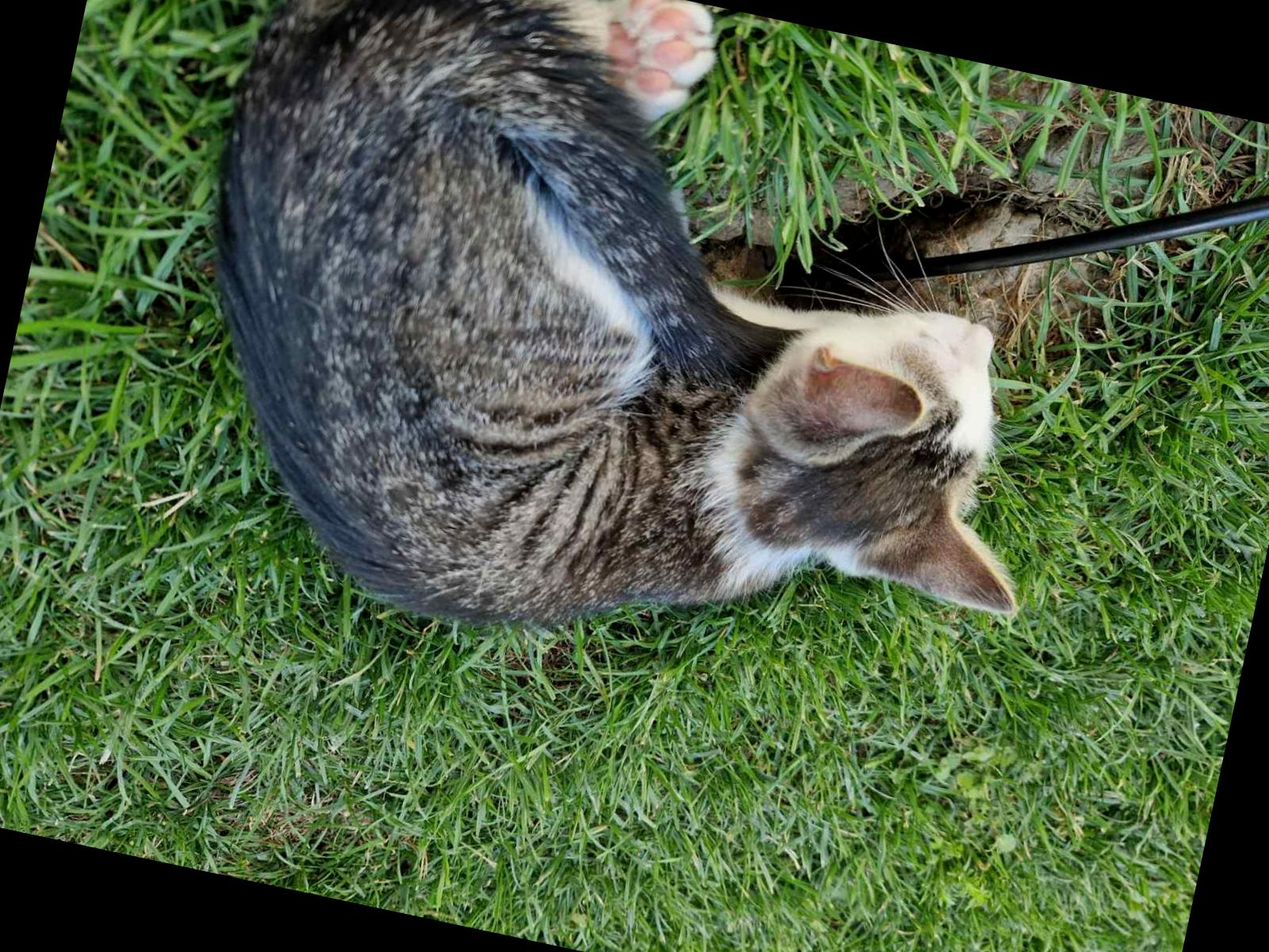macka: (130, 0, 1130, 742)
